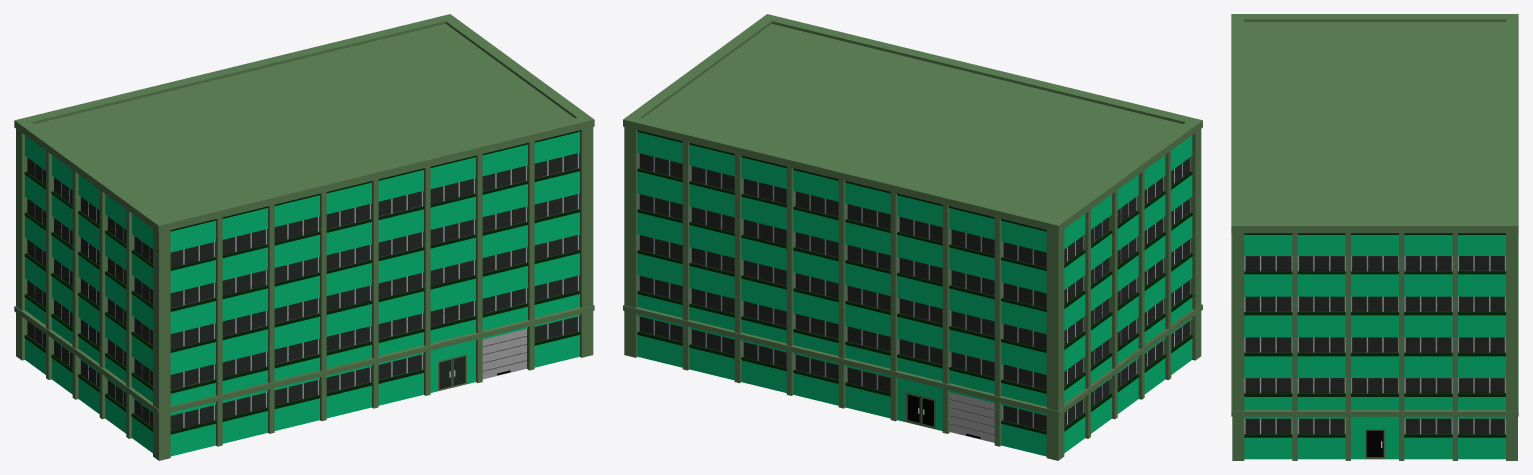
3 views of the same model, side by side, from view 1: azimuth 30°, elevation 25°; view 2: azimuth 150°, elevation 25°; view 3: azimuth 270°, elevation 25° (orthographic).
Parts seen in each view (by area): view 1: BB-02; view 2: BB-02; view 3: BB-02.
Boxes of the visible parts, bbox=[...] form: BB-02: bbox=[14, 14, 594, 460]; BB-02: bbox=[623, 14, 1202, 460]; BB-02: bbox=[1231, 14, 1518, 460].
Size of what is drawn, in the model's own units: 33.53 by 17.33 by 19.21.
